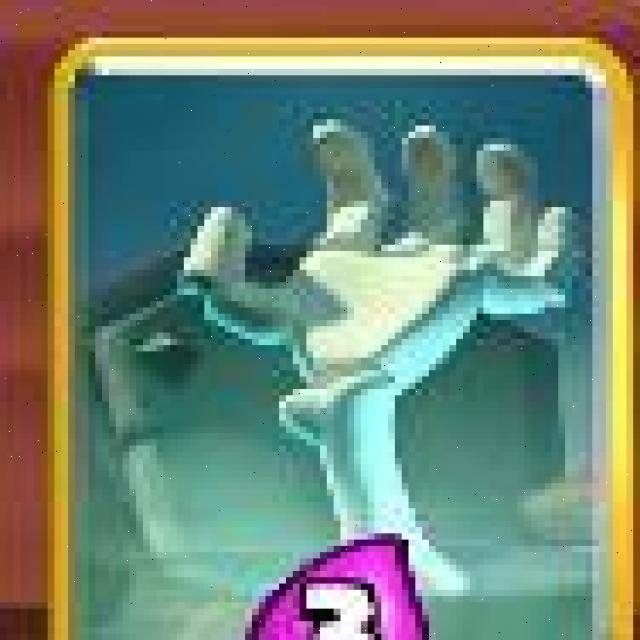Tombstone: (56, 39, 630, 640)
